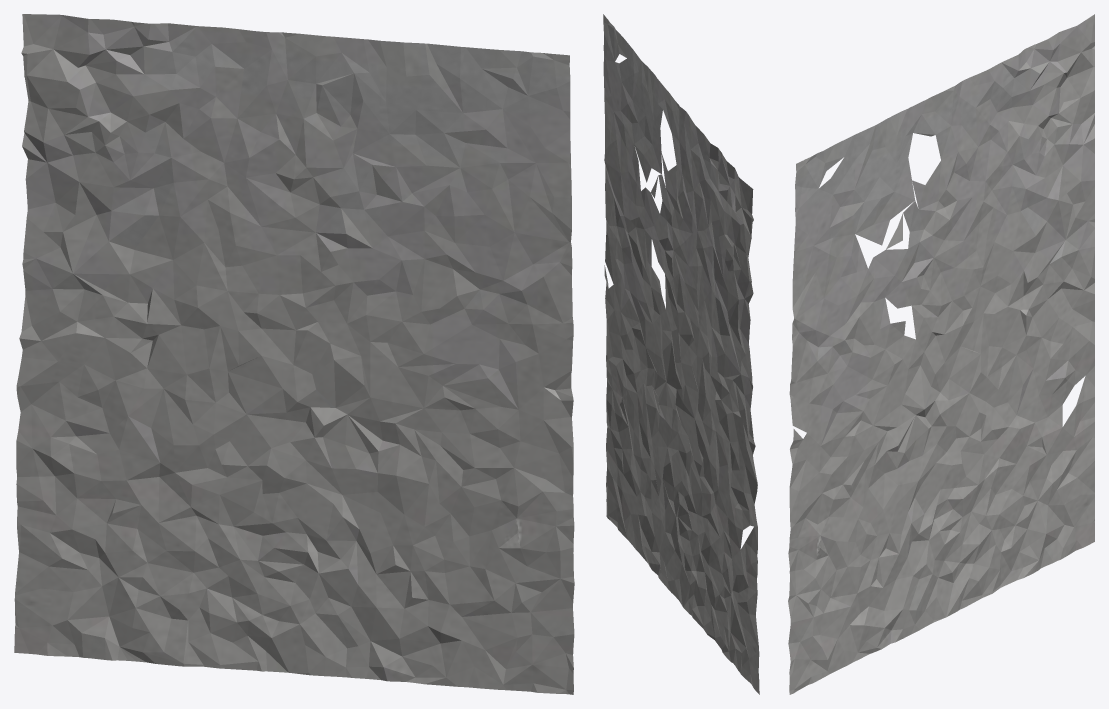
The picture shows the model from 3 angles, left to right: view 1: azimuth 30°, elevation 25°; view 2: azimuth 150°, elevation 25°; view 3: azimuth 270°, elevation 25°; orthographic projection. The views are drawn at different scales.
Bounding box in the file's own units: 0.5178 × 0.8374 × 0.4385.
Materials: 2 (2 with a texture image).
